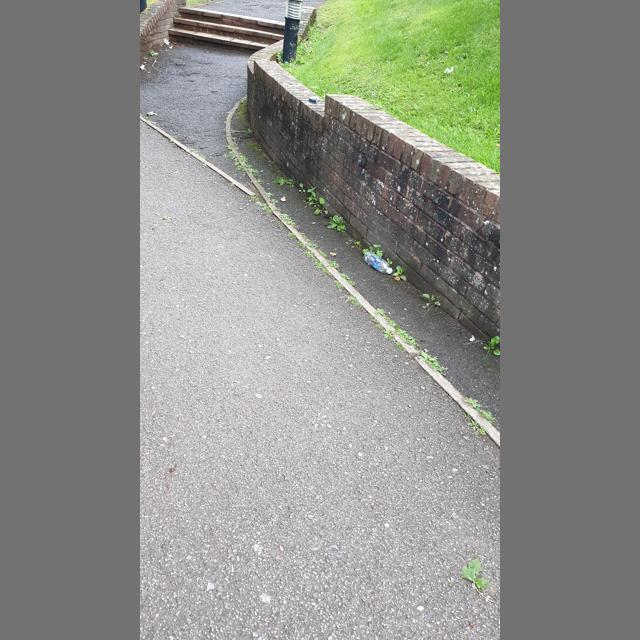litter: (363, 250, 392, 274), (309, 96, 320, 103), (387, 268, 392, 274)
